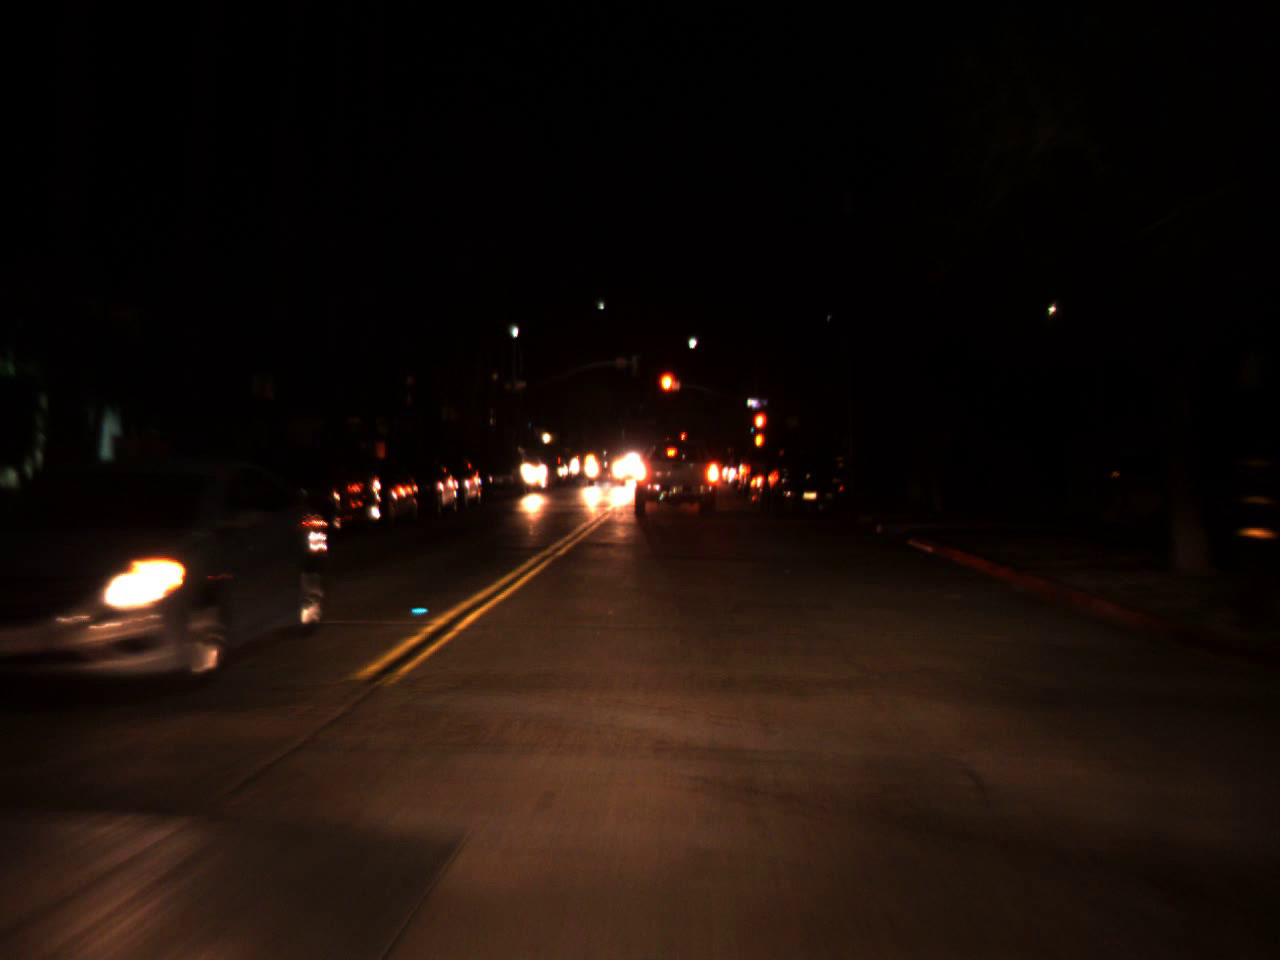stop: (655, 370, 680, 413), (751, 413, 769, 442)
